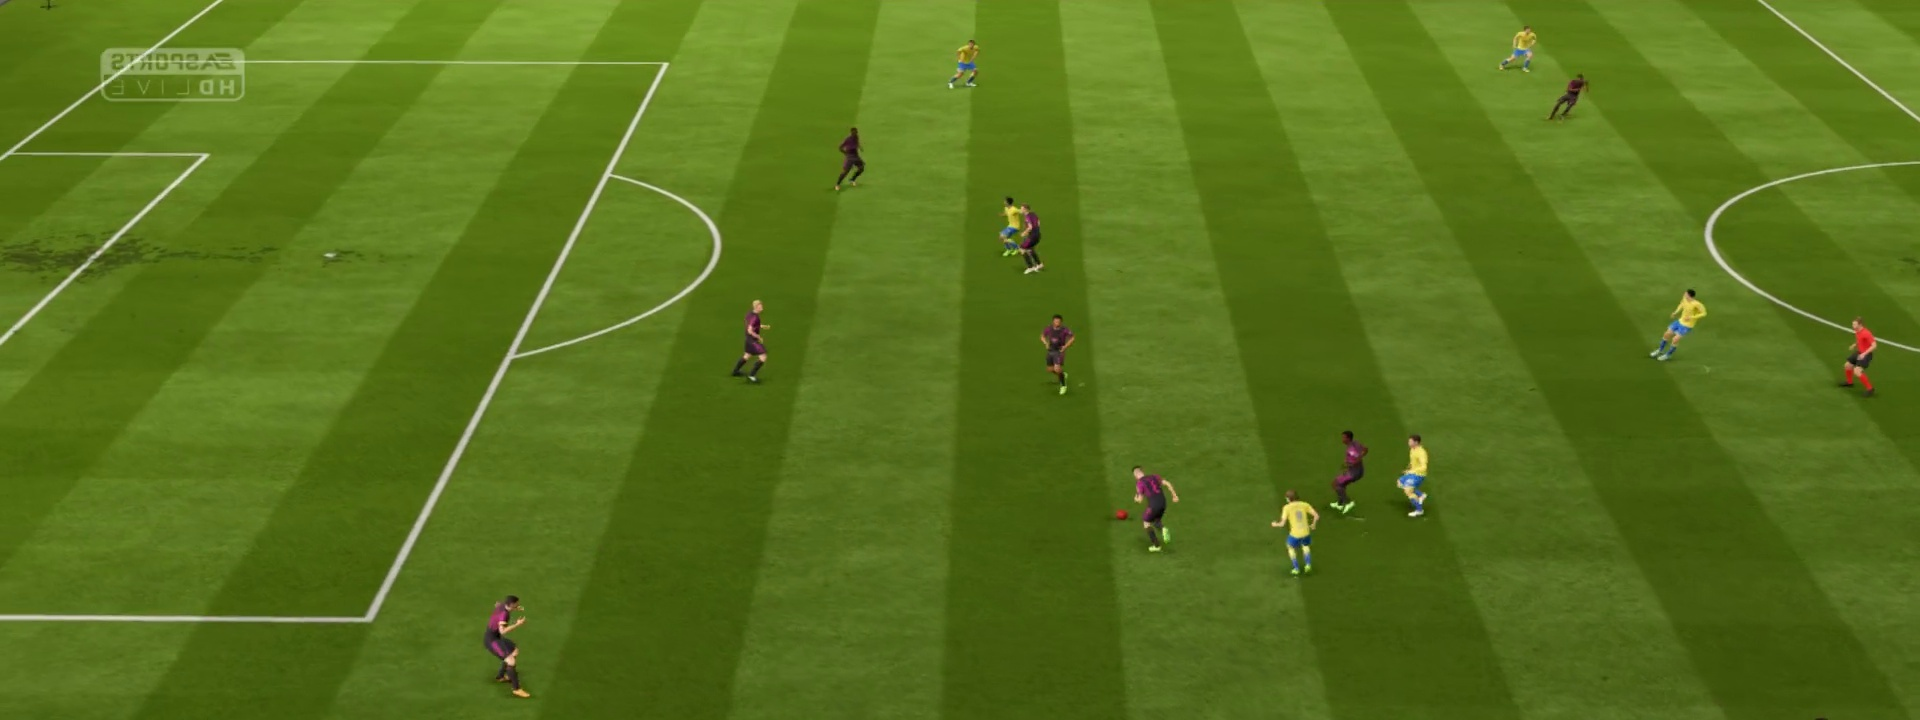person: (482, 594, 532, 697), (1131, 459, 1182, 551), (1271, 488, 1323, 576), (1650, 285, 1708, 363), (1330, 426, 1371, 514), (1839, 315, 1879, 399), (732, 299, 773, 383), (1040, 313, 1079, 394), (1397, 432, 1434, 518), (834, 124, 868, 190), (1498, 24, 1543, 72), (1548, 72, 1591, 120), (949, 37, 983, 87), (1019, 204, 1042, 275), (997, 194, 1023, 256), (1114, 508, 1129, 523)
